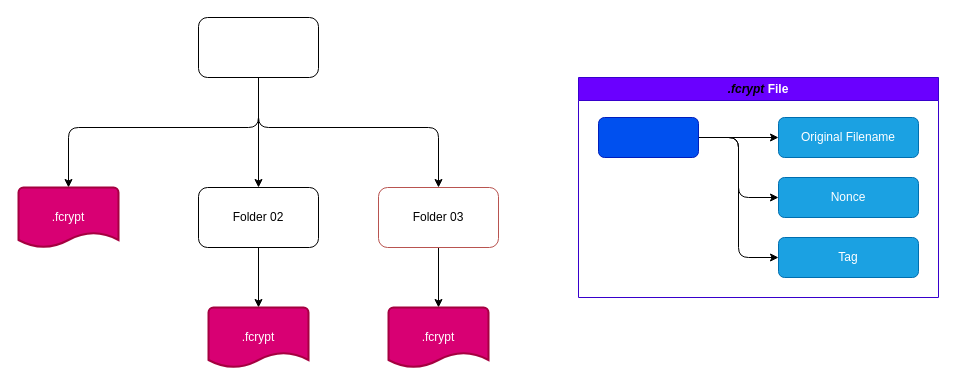
Image size: 956x386. Some labels were removed from this diagram. The centre of each missing label's shape, as x and y in pixels:
"Filename Hash" belongs at point (648, 137).
"Folder 01" belongs at point (258, 47).
